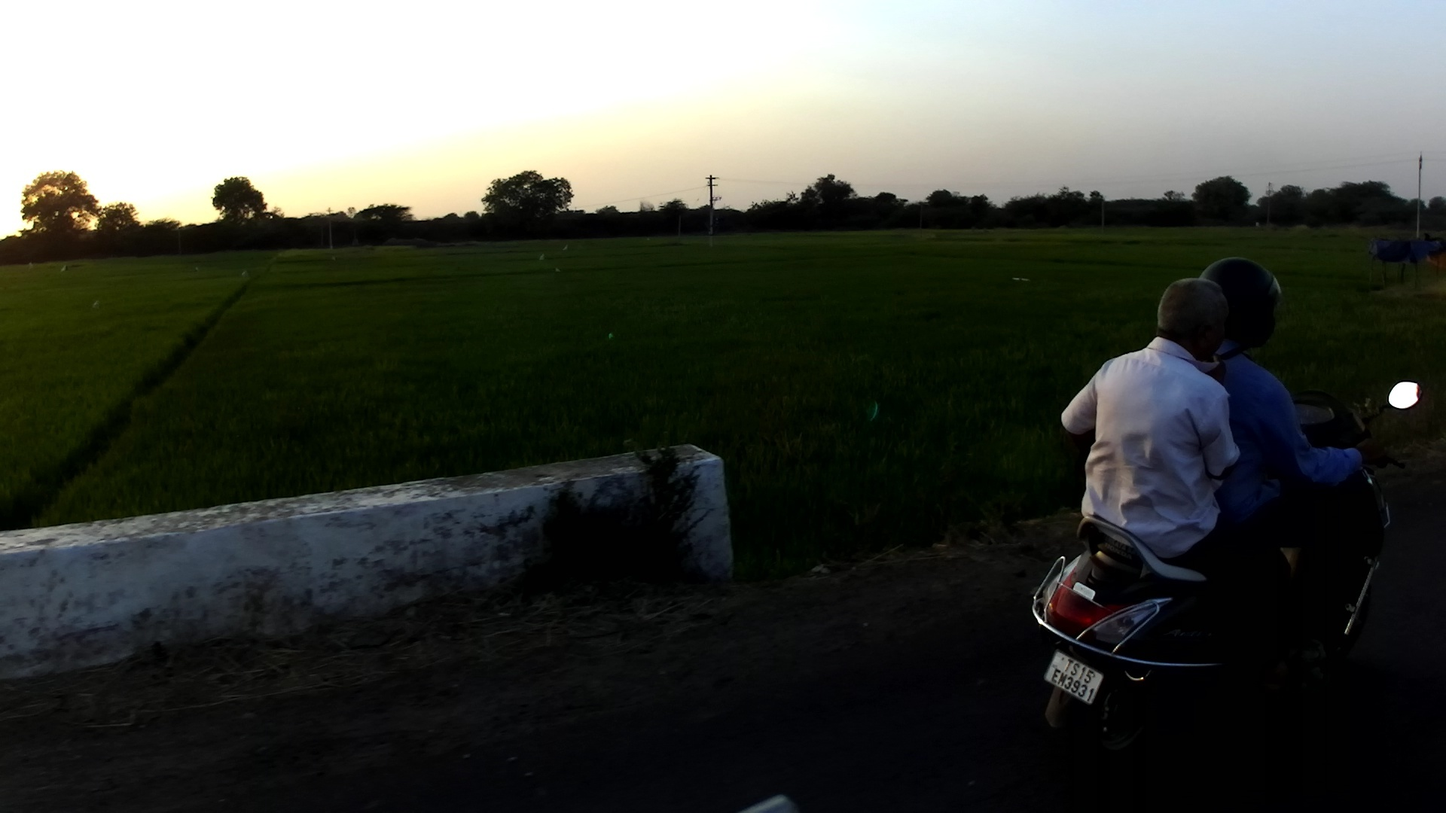motorcycle: (1030, 379, 1427, 813)
rider: (1061, 277, 1315, 718), (1195, 257, 1382, 698)
